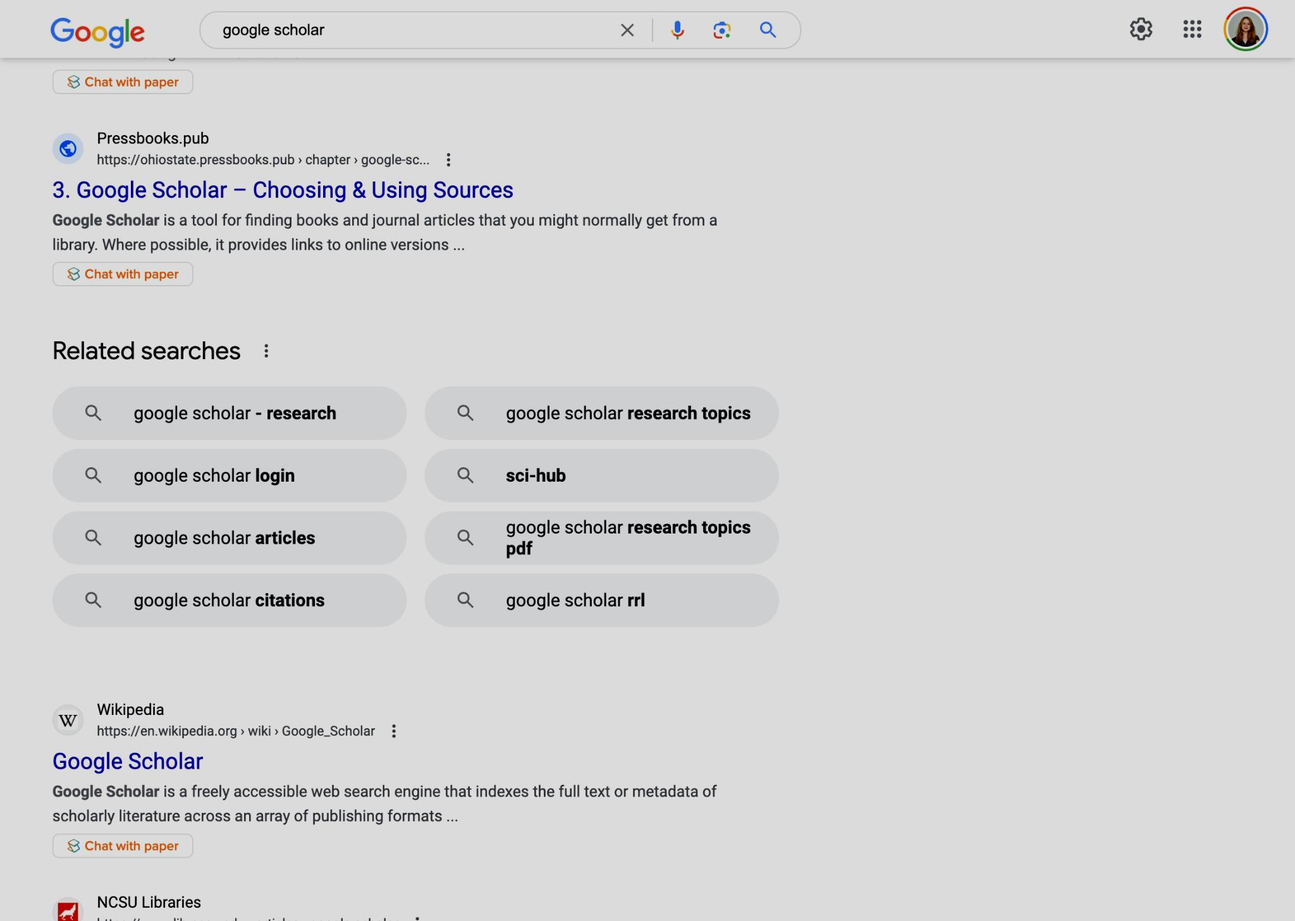webelement: (51, 210, 716, 253), (51, 783, 715, 826), (51, 386, 405, 439), (51, 448, 405, 501), (51, 511, 405, 564), (51, 573, 405, 626), (424, 386, 778, 439), (424, 448, 778, 501), (424, 511, 778, 564), (424, 573, 778, 626), (222, 17, 602, 46), (52, 184, 512, 200), (96, 126, 429, 148), (96, 148, 429, 168), (96, 892, 397, 914), (96, 699, 374, 721), (52, 334, 239, 365), (96, 721, 374, 741), (49, 17, 144, 48), (52, 755, 201, 772), (96, 913, 397, 921), (293, 150, 428, 166), (236, 723, 374, 738), (1118, 6, 1162, 50), (1169, 6, 1213, 50), (1223, 6, 1267, 50), (602, 11, 651, 47), (750, 11, 799, 47), (656, 11, 701, 47), (701, 11, 746, 47), (216, 43, 298, 61), (130, 43, 204, 61), (240, 338, 290, 360), (384, 718, 428, 741), (438, 146, 482, 168), (244, 916, 398, 921), (57, 710, 77, 730), (406, 912, 450, 921), (57, 903, 77, 921)
